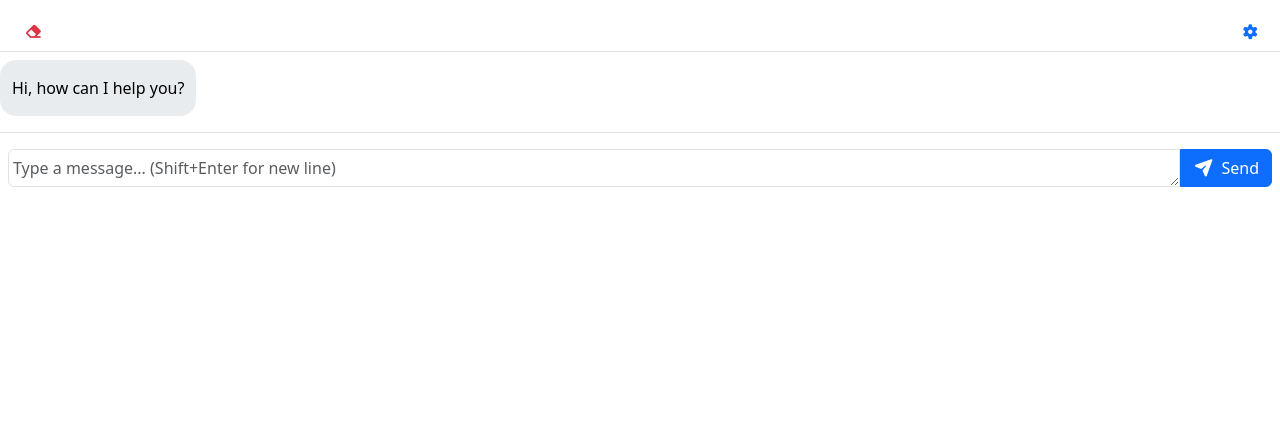
Test: Chat tool call visibility › shows tool calls by default
This screenshot has width=1280, height=438.
Expected: the button "Send" is shown, [1180, 149, 1272, 187]
In the text box with placeholder "Type a message... (Shift+Enter for new line)": (594,168) [8, 149, 1180, 187], type "hello"
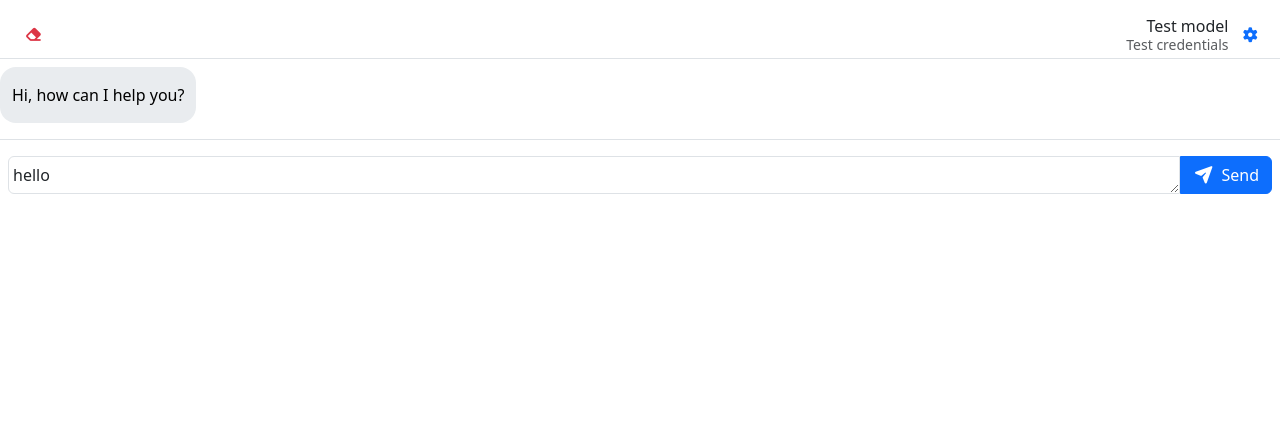
Click the button "Send": (1226,174) [1180, 156, 1272, 194]
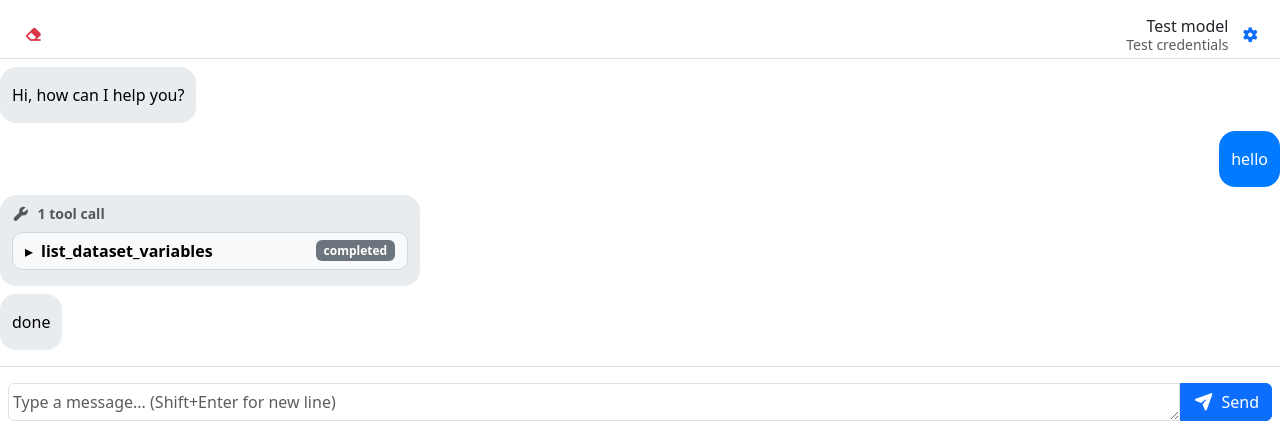
Result: the text "done" is shown at [12, 310, 50, 334]
Result: the element with class "tool-call-group" is shown at [0, 194, 420, 286]
